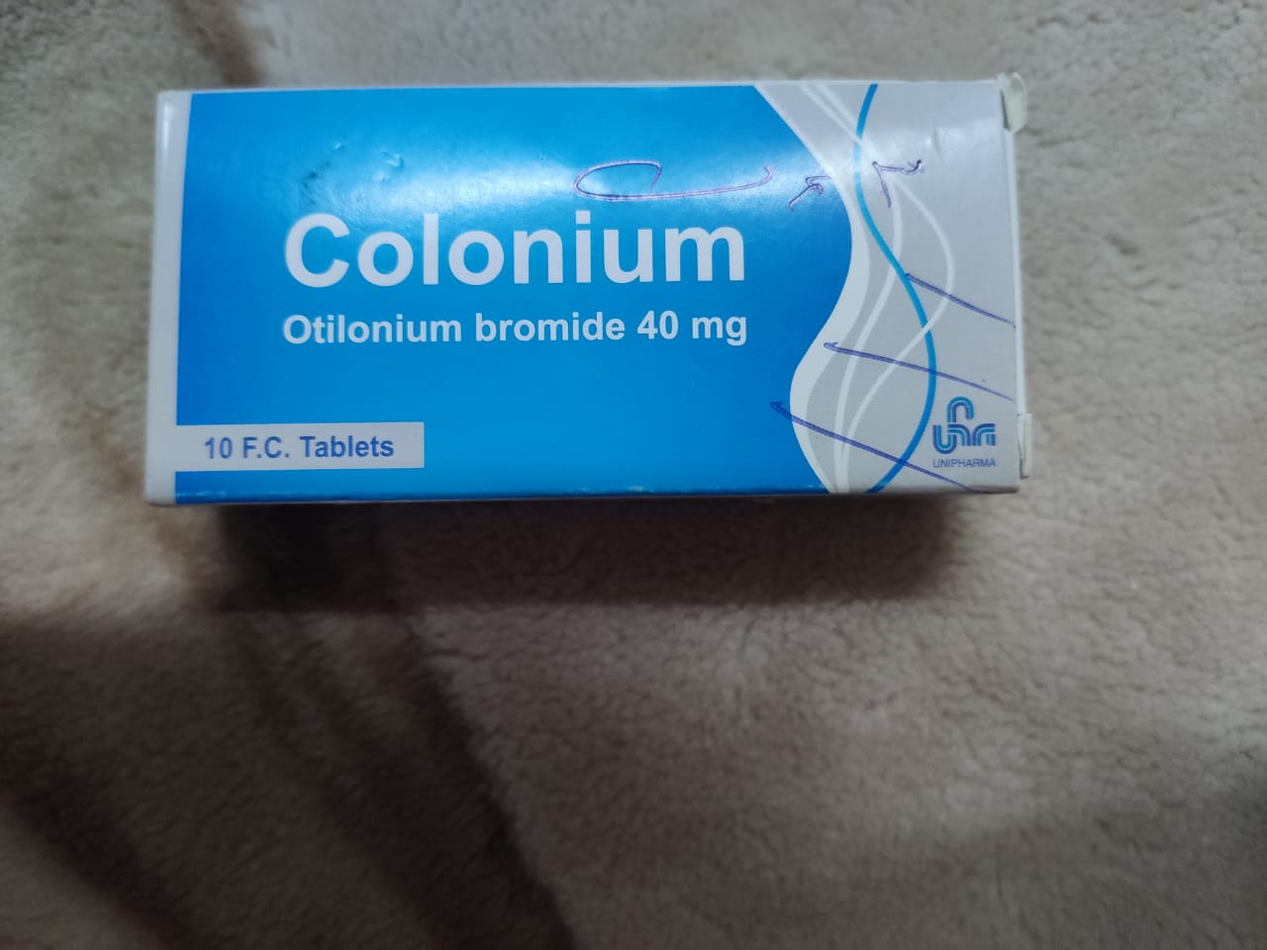Medicine: (126, 69, 1047, 515)
